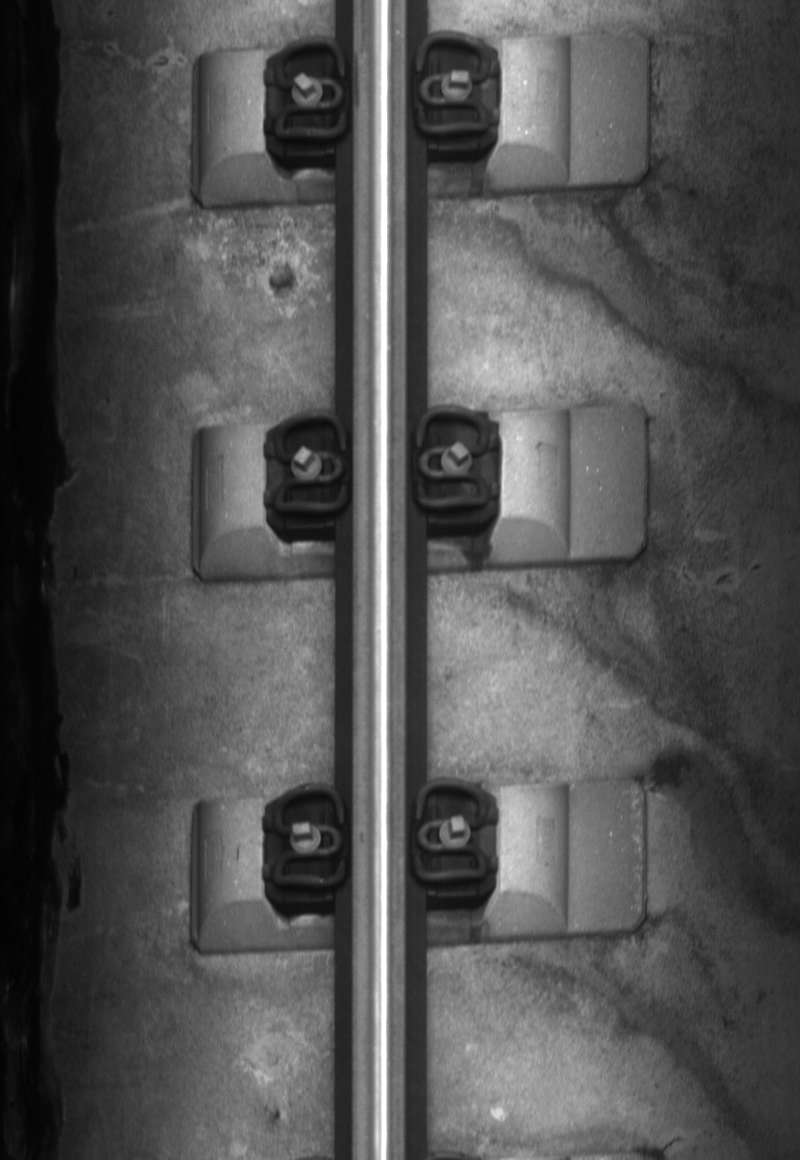l_faster: (266, 778, 351, 893), (267, 33, 352, 146), (268, 408, 352, 517)
r_faster: (412, 29, 494, 141), (411, 403, 493, 514), (411, 775, 490, 888)
